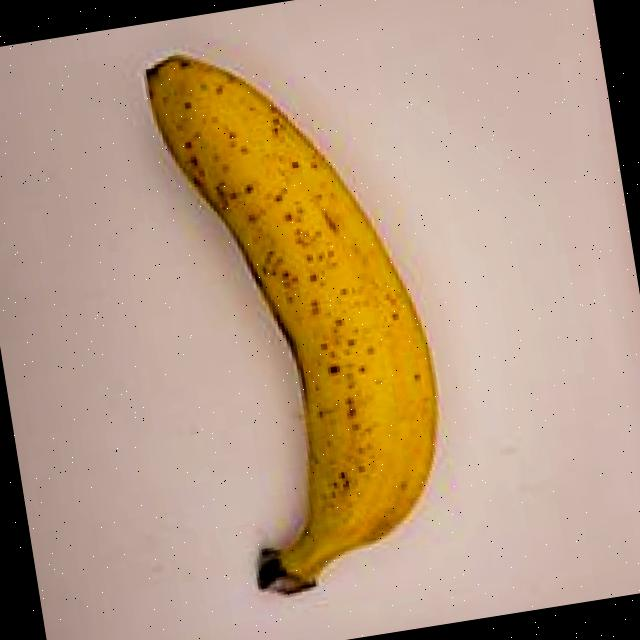Overripe: (52, 0, 487, 623)
